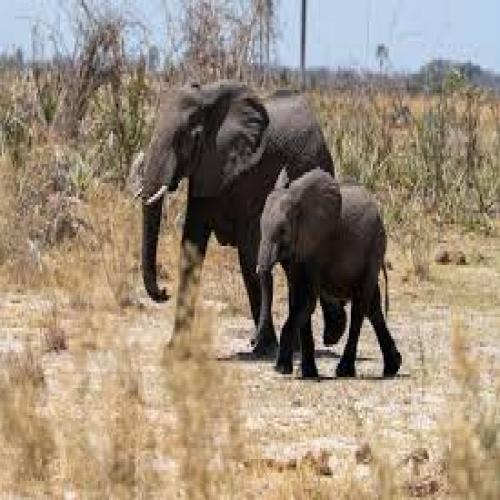asian_elephant-endangered: (131, 81, 331, 362), (253, 165, 405, 384)
